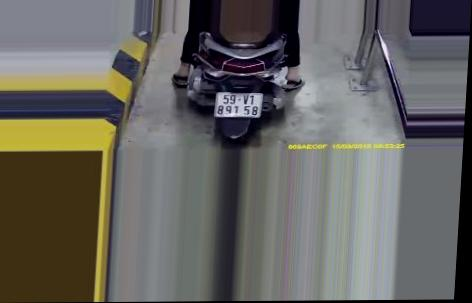License_Plate: (211, 88, 265, 124)
